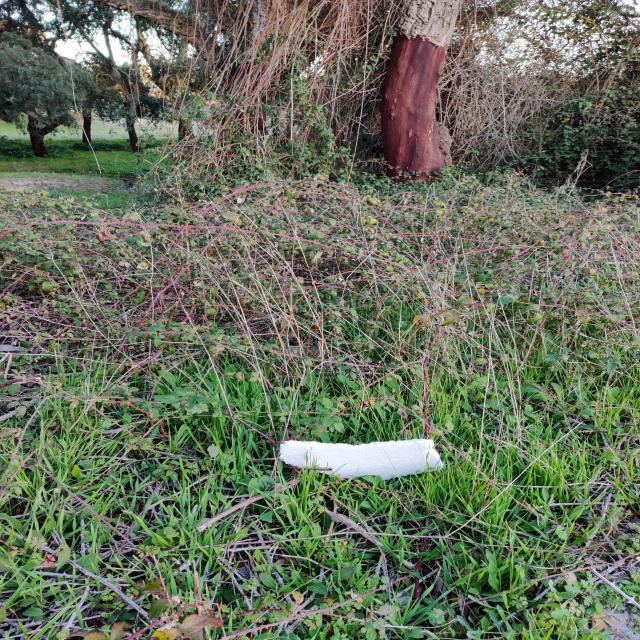litter: (264, 428, 463, 491)
